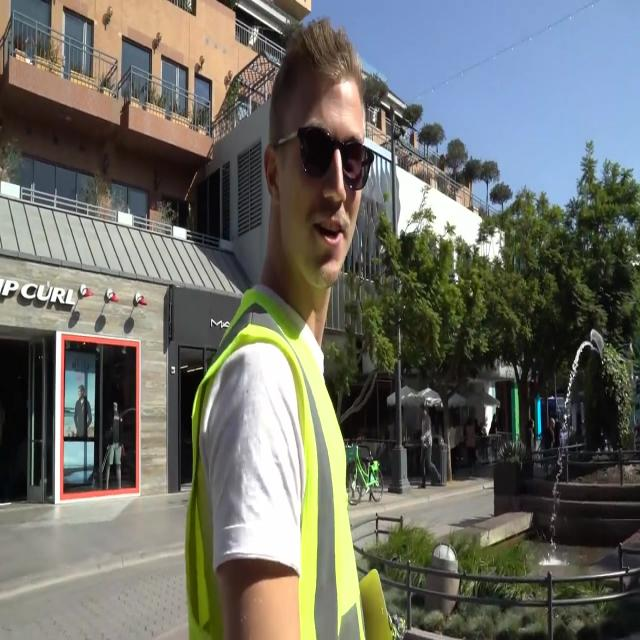Reflective-Jacket: (184, 305, 362, 640)
